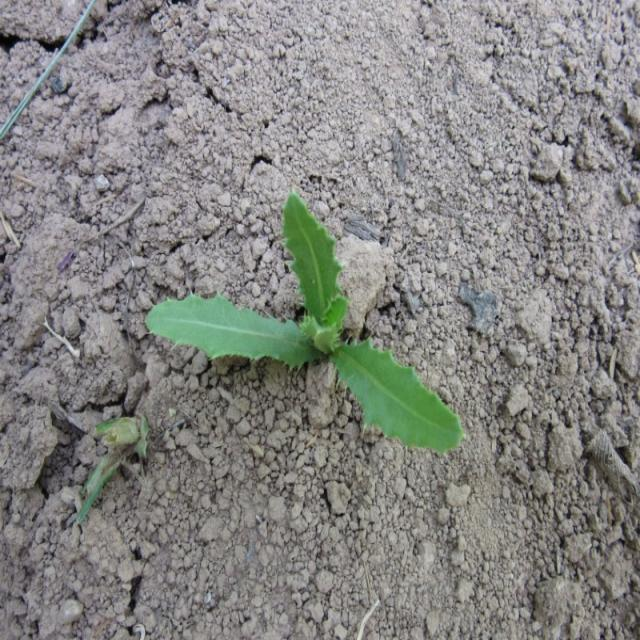field_thistle: (152, 208, 491, 479)
